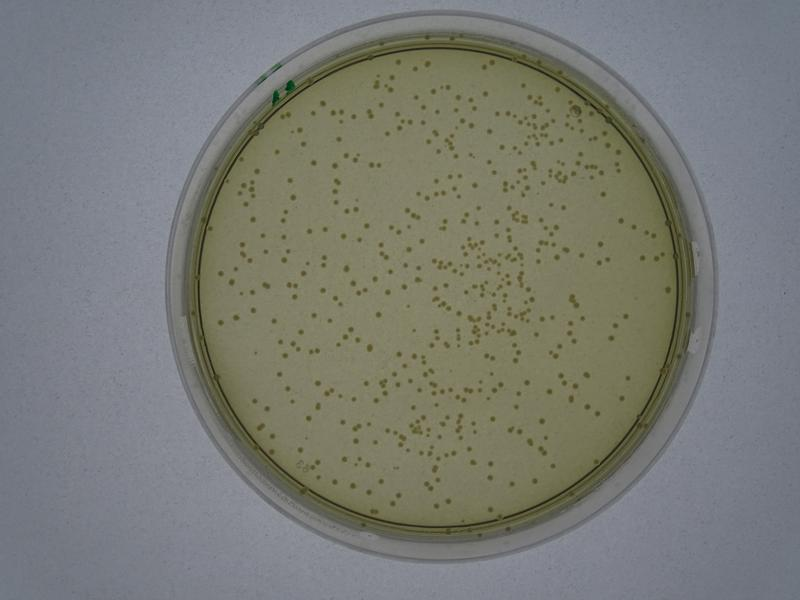colony: (371, 307, 385, 319), (598, 188, 610, 201), (230, 313, 243, 325), (248, 393, 257, 408), (661, 285, 672, 297), (286, 174, 296, 187), (593, 237, 606, 247), (214, 316, 224, 329), (338, 230, 346, 244), (393, 347, 403, 358), (269, 315, 279, 326), (361, 221, 372, 231), (332, 134, 344, 143), (317, 285, 327, 295), (607, 333, 616, 344), (479, 89, 490, 98), (247, 214, 256, 224), (312, 378, 322, 387), (367, 344, 375, 355), (382, 128, 391, 137), (619, 393, 626, 404), (623, 374, 632, 381)
